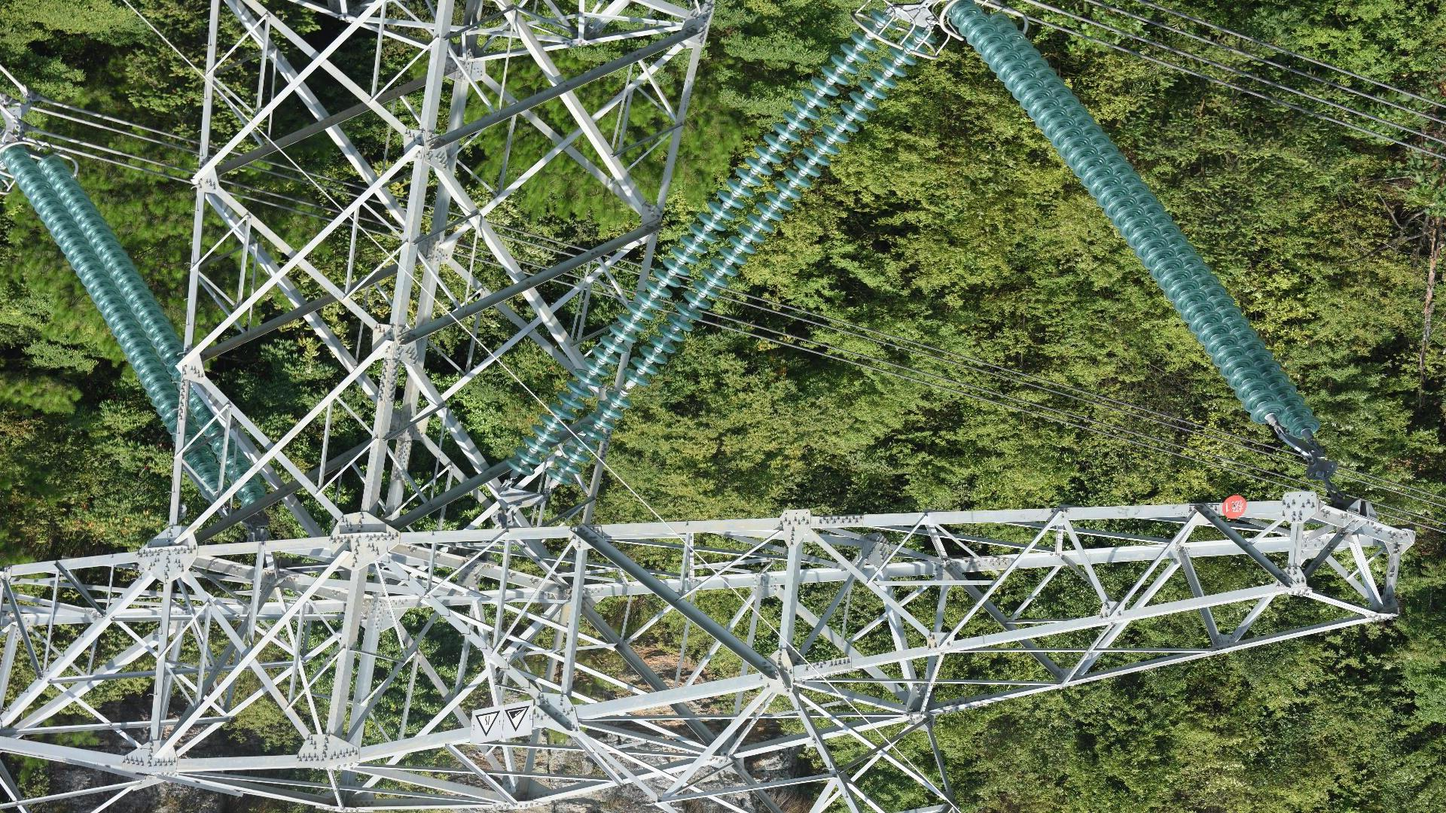insulator: (502, 9, 939, 490), (949, 3, 1323, 438), (1, 142, 271, 513)
insulator_stringdrop: (603, 367, 653, 411)
